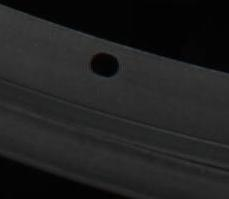holes: (88, 50, 120, 78)
